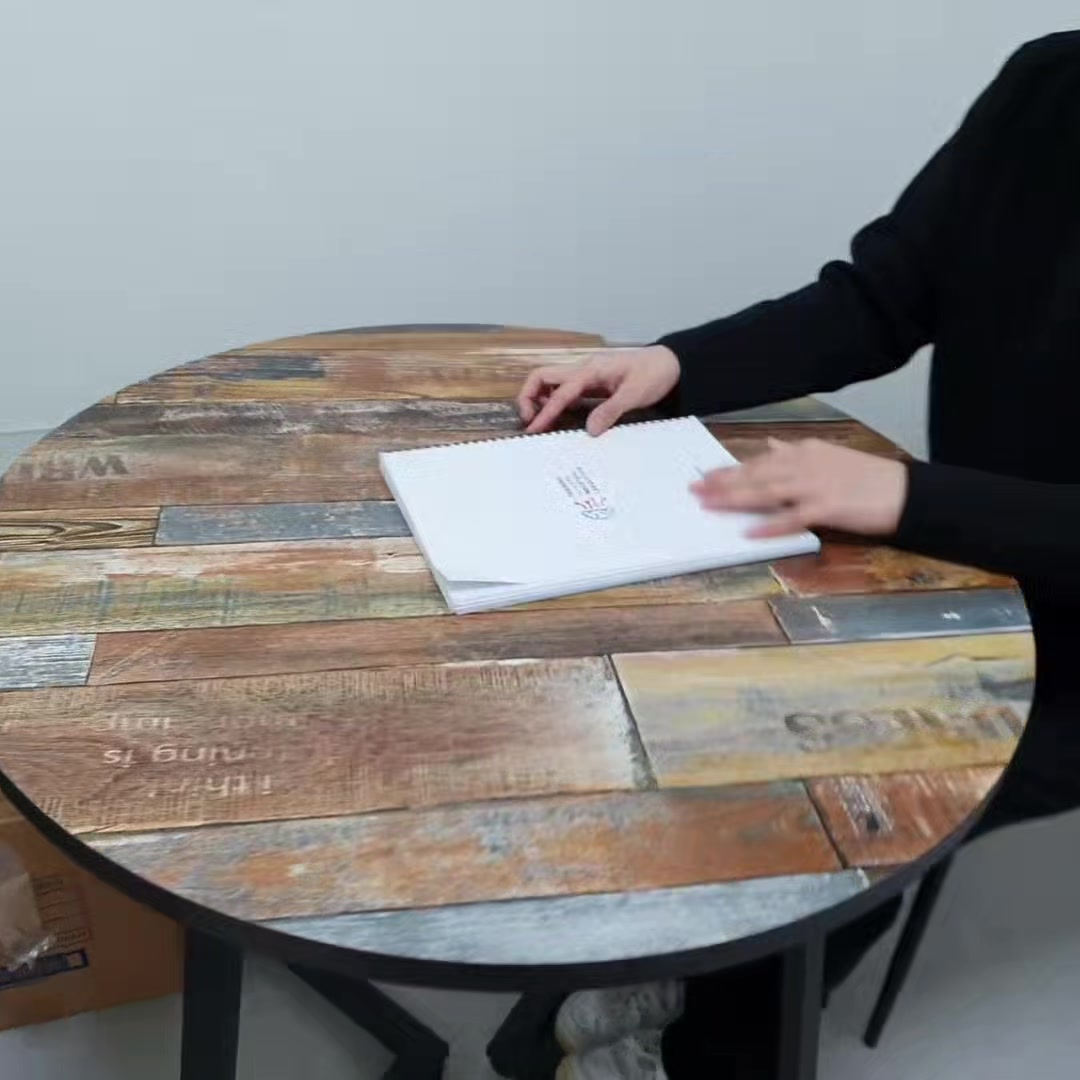book: (379, 413, 823, 621)
